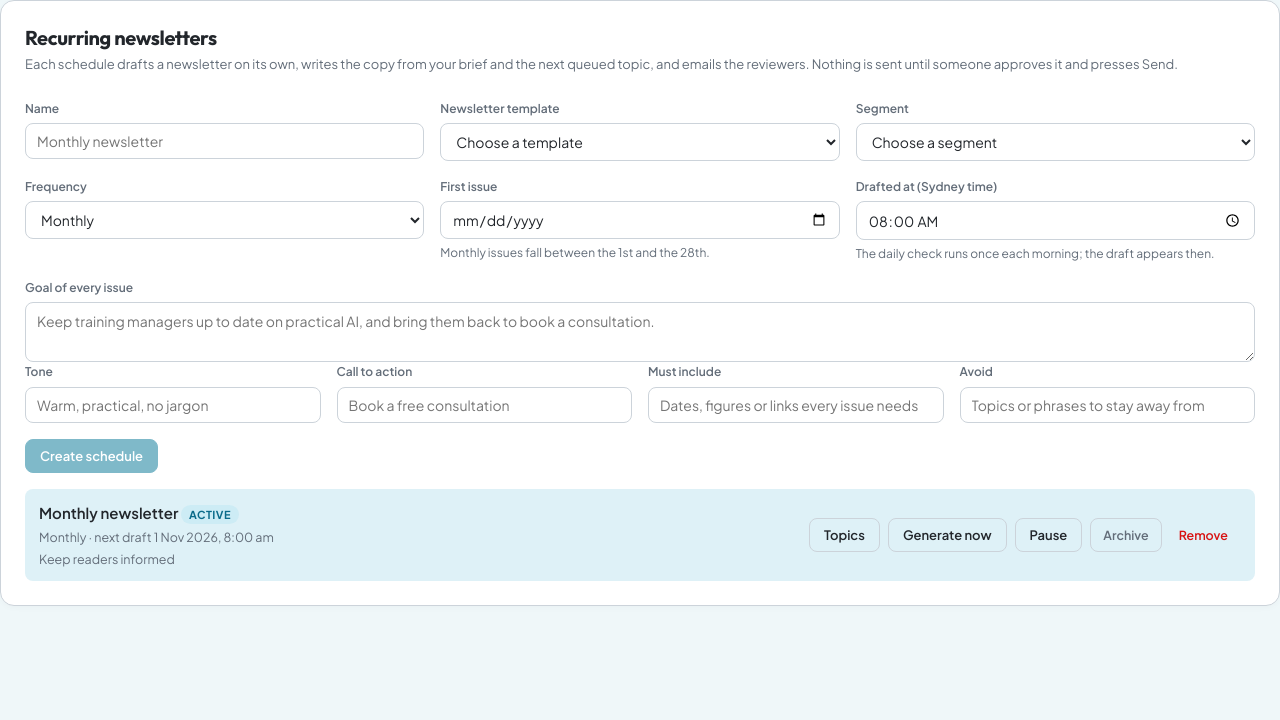
NewsletterSchedules › reports a run that could not write the copy
Click the button with test id "run-schedule-s1": (947, 535) [888, 518, 1007, 552]
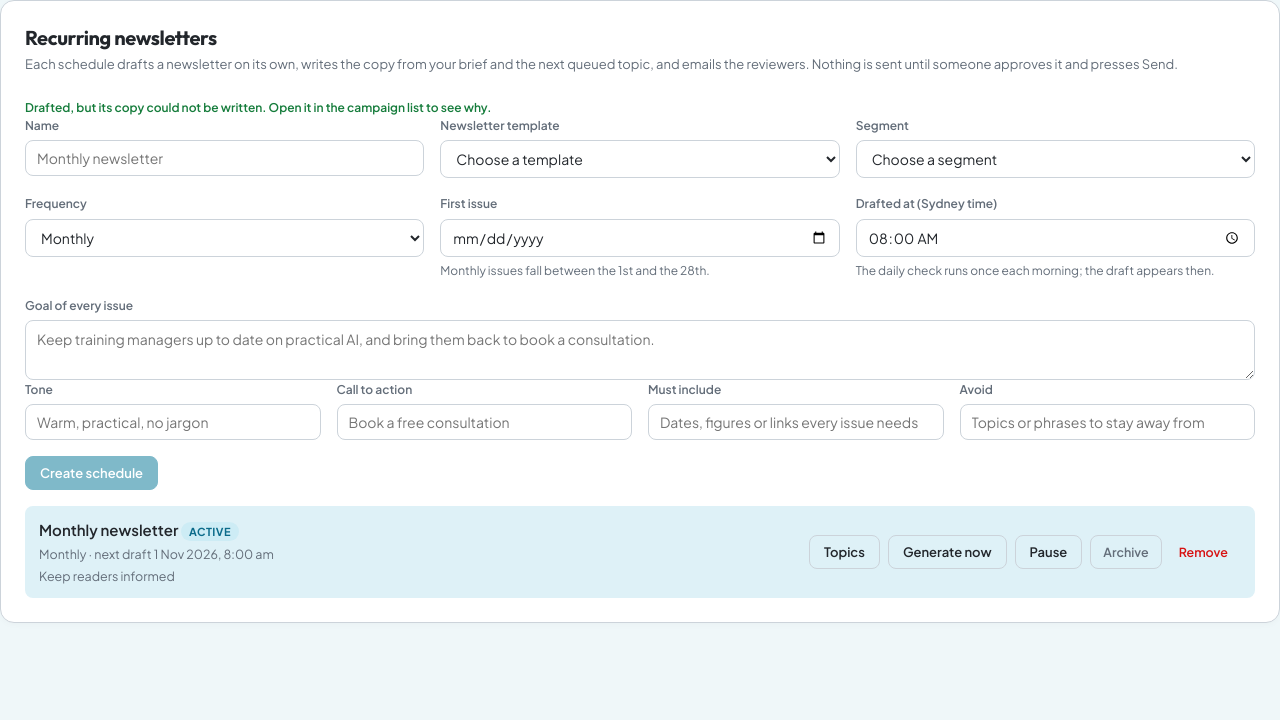
Check: the message shows "could not be written", box [25, 100, 491, 115]
